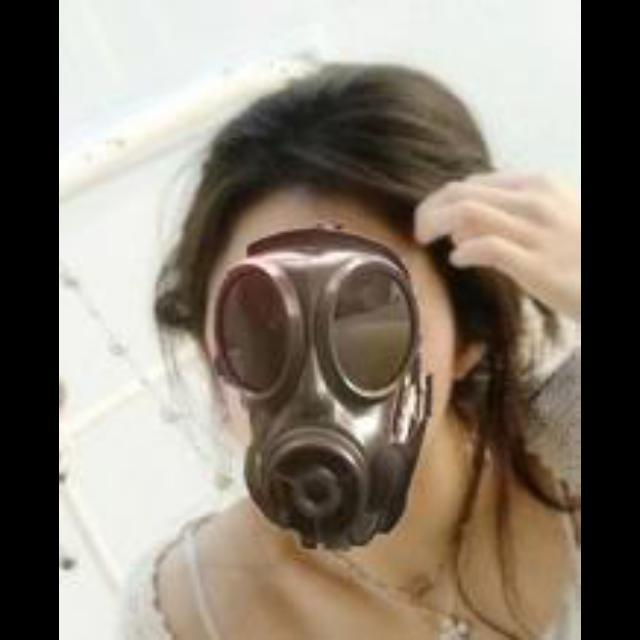suspicion: (202, 141, 548, 575)
